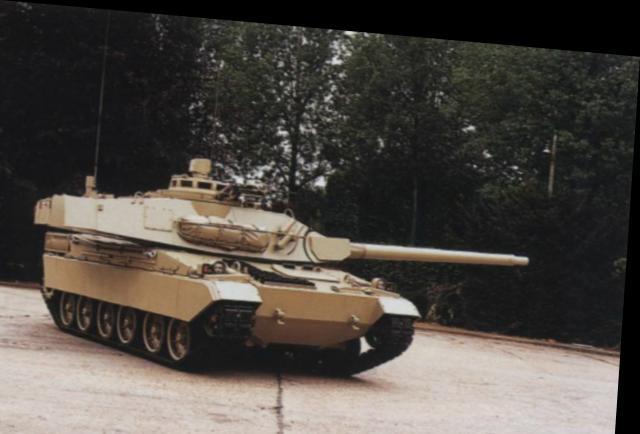tank: (20, 140, 428, 375)
